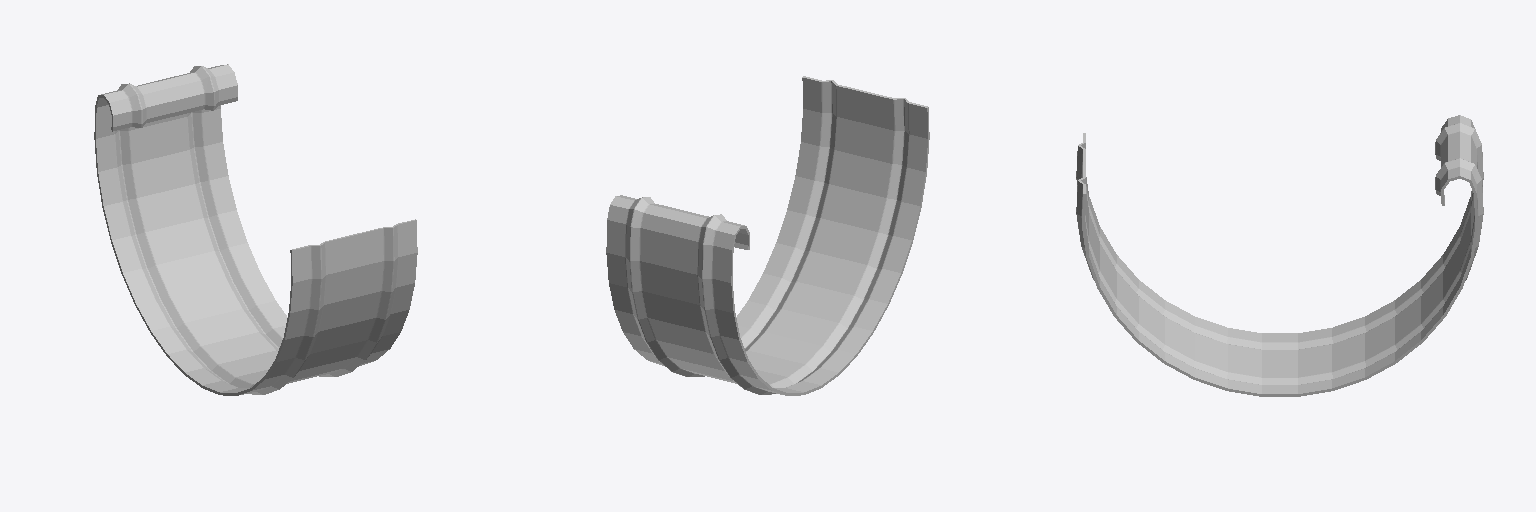
File: holder_big.obj
3 views of the same model, side by side, from view 1: azimuth 30°, elevation 25°; view 2: azimuth 150°, elevation 25°; view 3: azimuth 270°, elevation 25° (orthographic).
Parts seen in each view (by area): view 1: holder_big; view 2: holder_big; view 3: holder_big.
Boxes of the visible parts, x1,y1,x2,y2 form: holder_big: [94, 64, 417, 395]; holder_big: [606, 76, 929, 395]; holder_big: [1076, 115, 1483, 396].
Bounding box in the file's own units: 48.65 × 85.92 × 137.